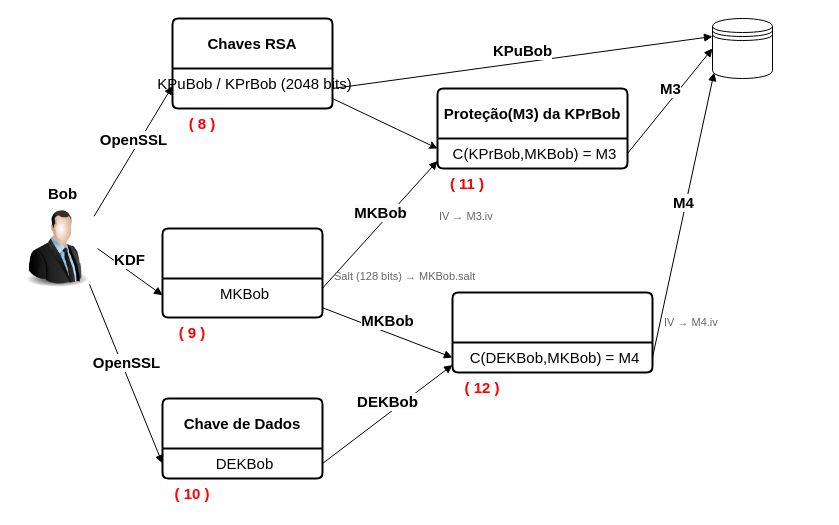
This 839x525 diagram has some shape labels left out. The shapes that lost their labels are listed below. From the top down, each one's box as (x1, y1, x2, y2) in pixels, then its label:
(161, 227, 323, 318): Chave Mestra
(451, 291, 653, 373): Proteção (M4) da DEKBob
